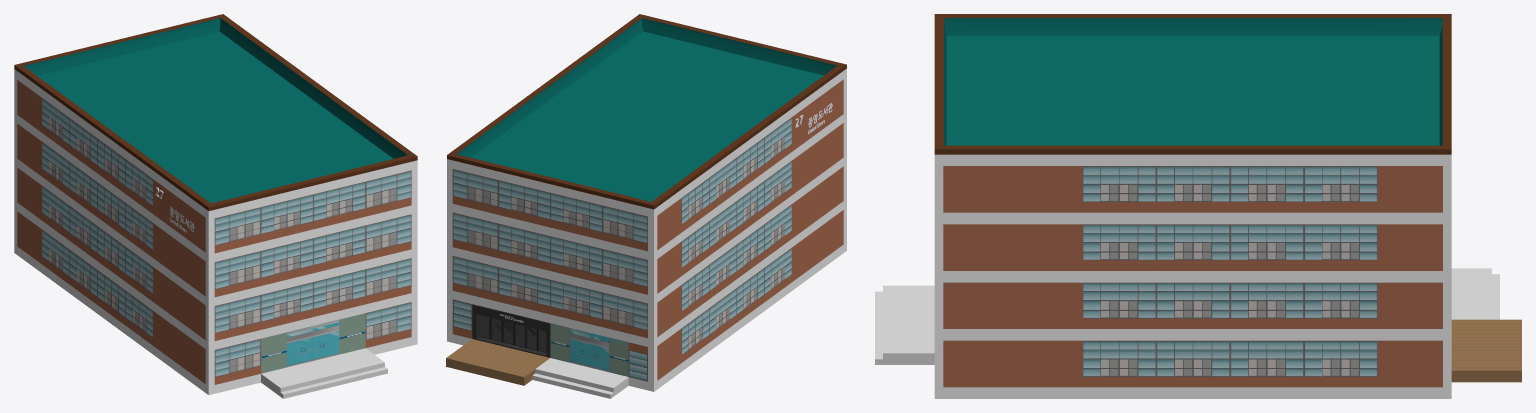
Rendered from building_centrallibrary.fbx.
The picture shows the model from 3 angles, left to right: view 1: azimuth 30°, elevation 25°; view 2: azimuth 150°, elevation 25°; view 3: azimuth 270°, elevation 25°; orthographic projection. The views are drawn at different scales.
Visible parts, largest first — view 1: building_centrallibrary; view 2: building_centrallibrary; view 3: building_centrallibrary.
Boxes of the visible parts, <box> form: building_centrallibrary: <box>14,14,417,398</box>; building_centrallibrary: <box>446,14,846,398</box>; building_centrallibrary: <box>875,14,1521,398</box>.
Bounding box in the file's own units: 1.74 × 1.48 × 3.49.
1 material, 1 textured.
